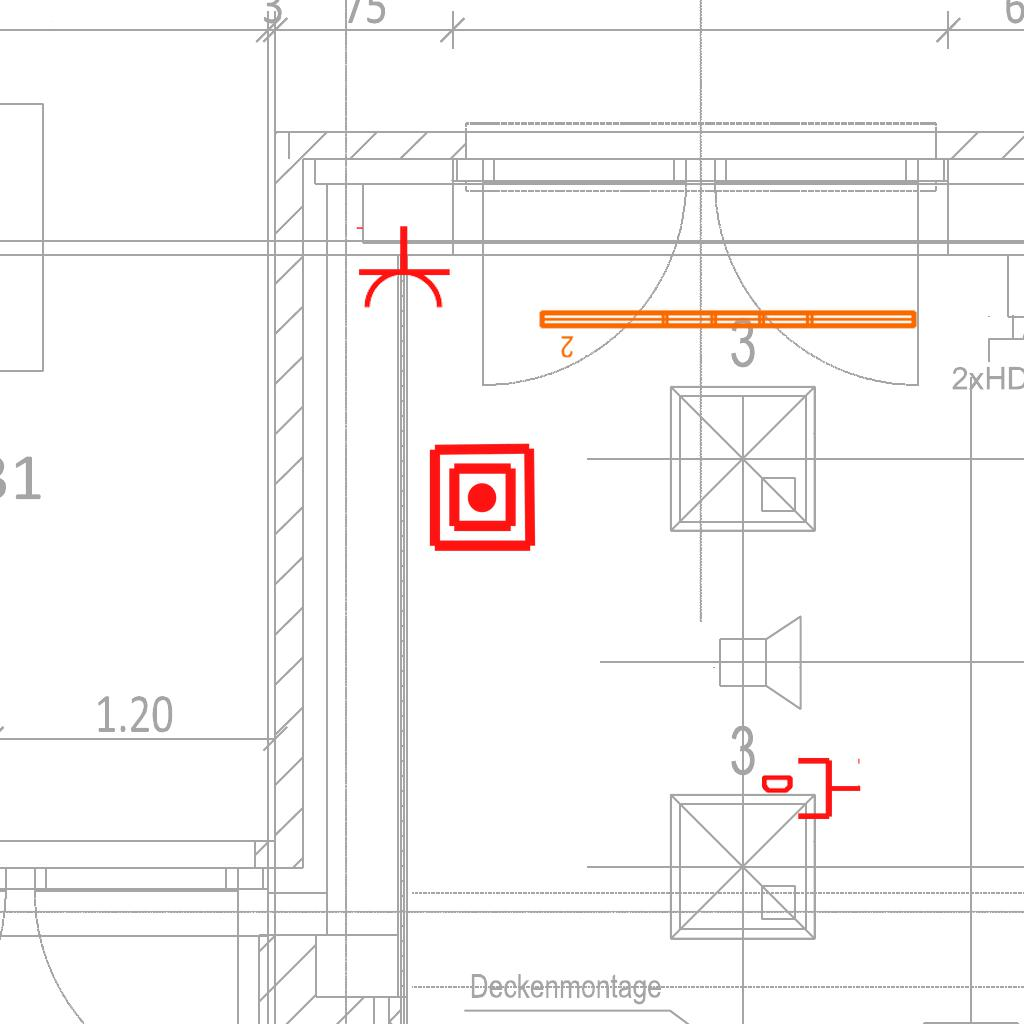Ambulanz_Pendelleuchte_LED: (535, 304, 922, 360)
Datenanschluss_einfach: (762, 754, 862, 823)
NAM-Nichtautomatischer_Melder: (426, 441, 539, 554)
Schukosteckdose_einfach: (352, 224, 452, 311)
